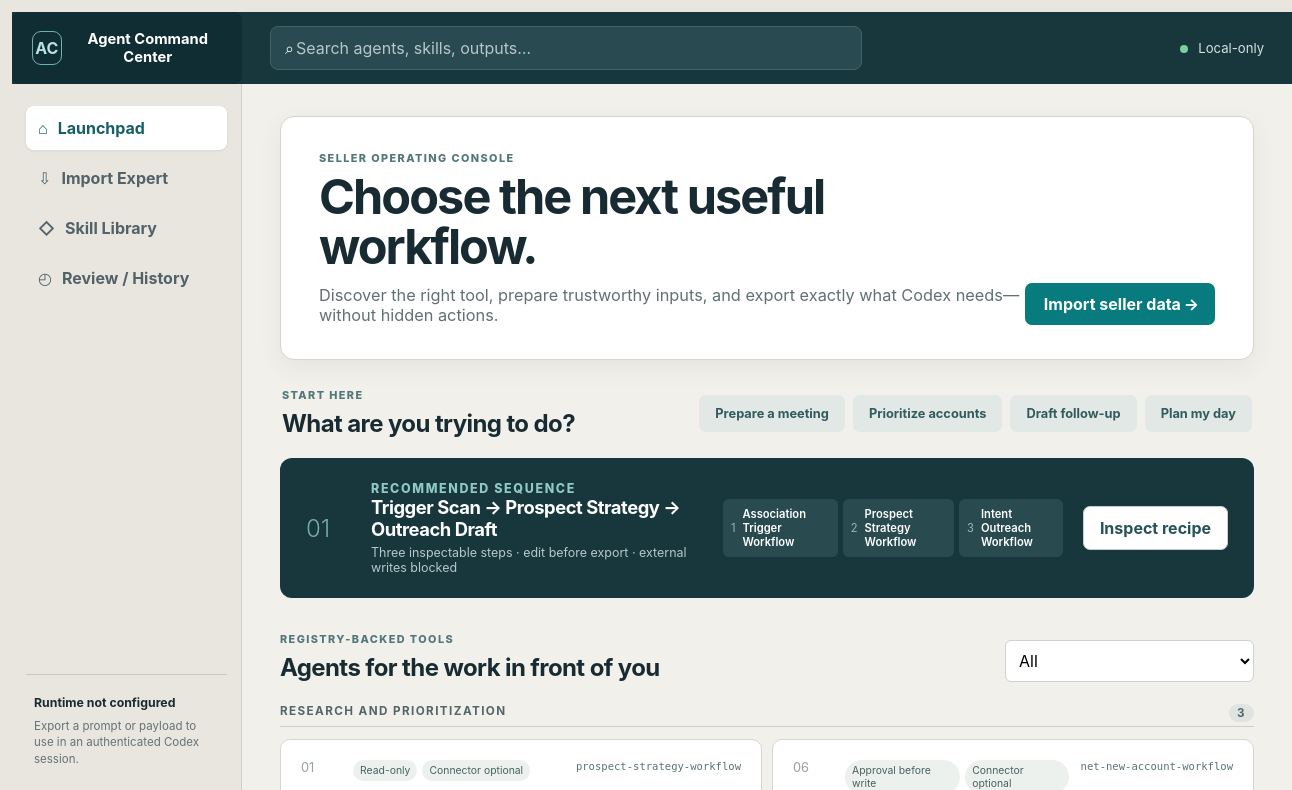
it: opens the skill library with every active skill
Click the button "◇Skill Library".
click(126, 228)  # box [26, 206, 227, 250]
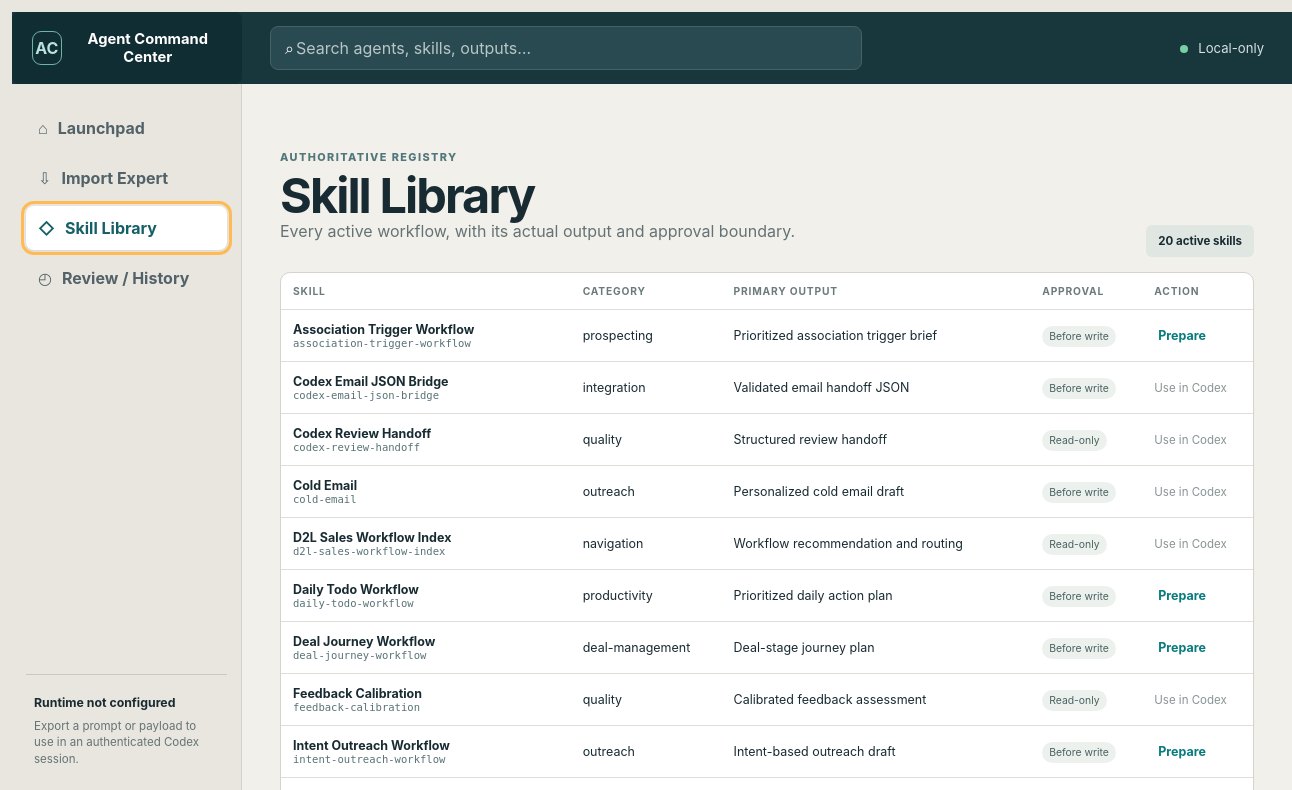
Now the text "20 active skills" is shown, box [1146, 225, 1254, 257]
Now the number of rows is 21
